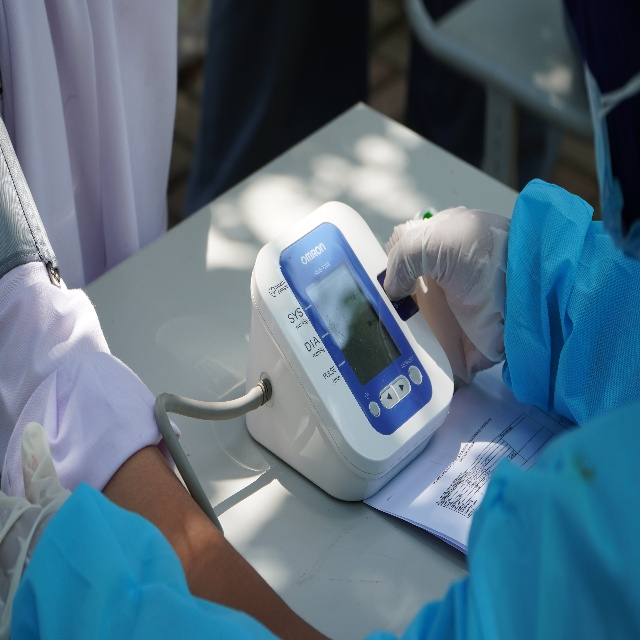Guantes: (383, 204, 511, 387), (0, 421, 73, 640)
